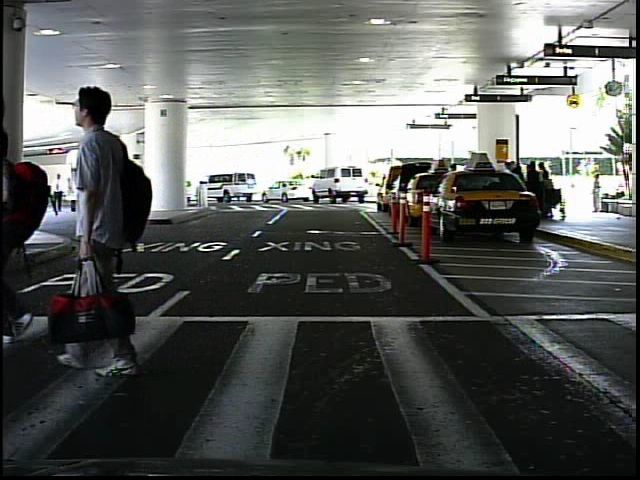person: (65, 68, 168, 384), (51, 171, 70, 221), (588, 170, 607, 216)
